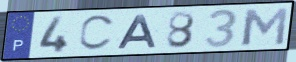3: (204, 8, 241, 49)
4: (37, 14, 72, 55)
8: (164, 10, 196, 50)
A: (115, 13, 159, 50)
C: (77, 14, 118, 53)
M: (240, 6, 290, 47)
